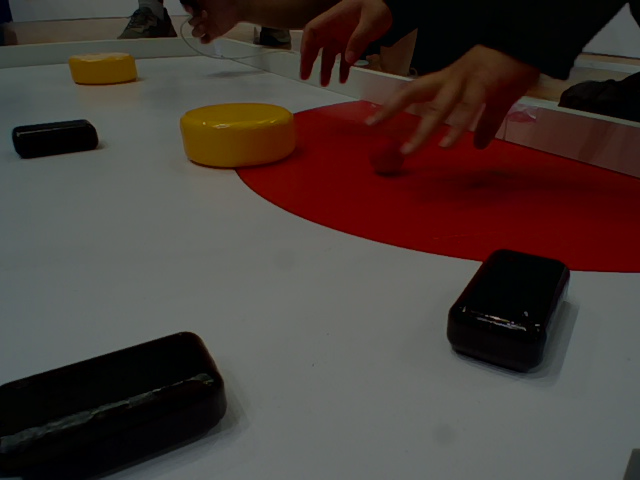black: (1, 339, 237, 469), (449, 246, 577, 371), (10, 117, 109, 158)
yellow: (182, 103, 298, 166), (67, 53, 140, 83)
